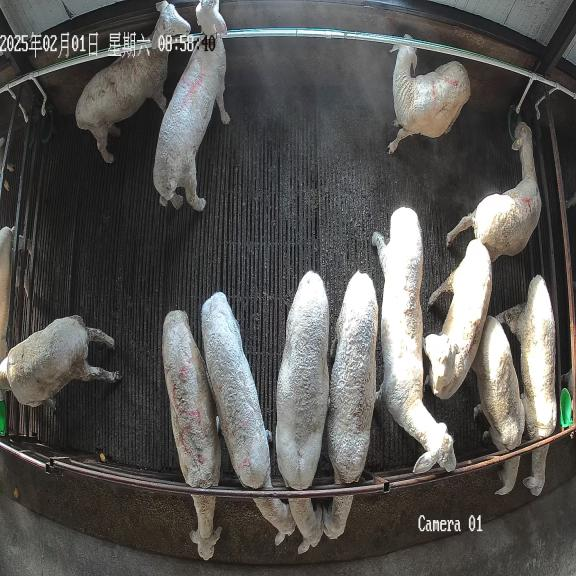drinking: (446, 122, 541, 261)
eating: (201, 292, 296, 545), (322, 271, 378, 539), (276, 271, 329, 553), (162, 310, 221, 560), (496, 275, 557, 496), (471, 316, 525, 495)
stand: (372, 206, 456, 472), (75, 0, 190, 162), (153, 0, 230, 210), (0, 316, 121, 408), (424, 238, 492, 399), (387, 34, 470, 154)
